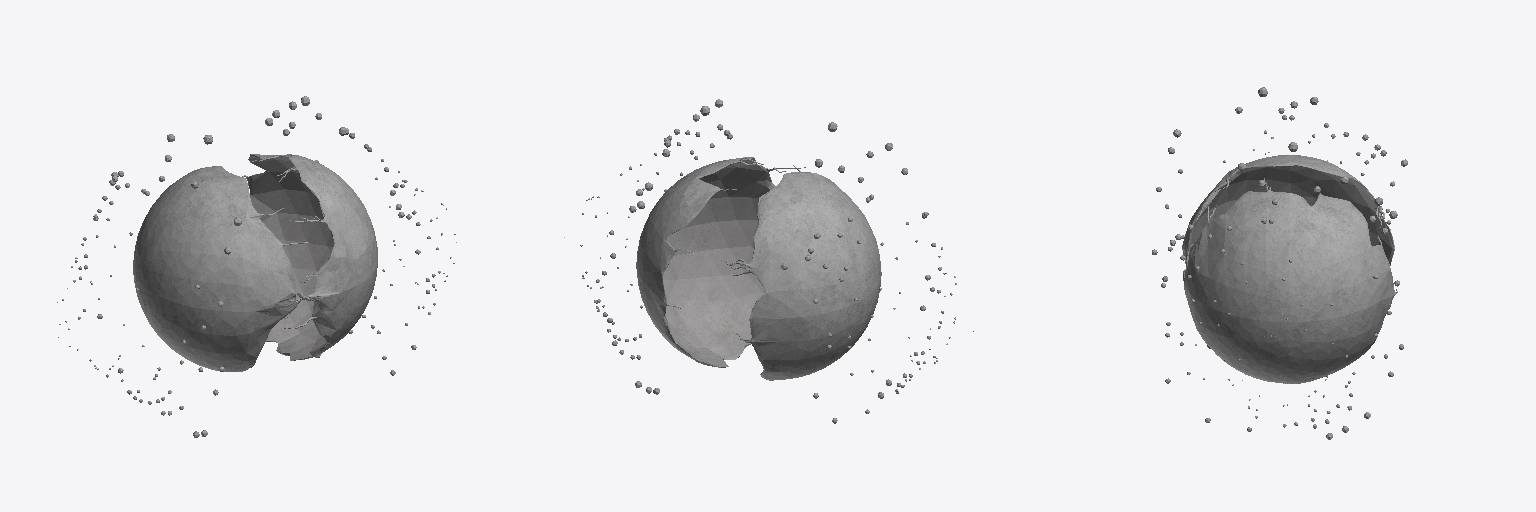
3 renders of one model, left to right at view 1: azimuth 30°, elevation 25°; view 2: azimuth 150°, elevation 25°; view 3: azimuth 270°, elevation 25°, orthographic.
Parts seen in each view (by area): view 1: Object039; view 2: Object039; view 3: Object039.
Boxes of the visible parts, x1,y1,x2,y2 form: Object039: [57, 96, 456, 437]; Object039: [564, 99, 973, 423]; Object039: [1152, 87, 1407, 439].
Bounding box in the file's own units: 506 × 338 × 278.
Materials: 1 (1 with a texture image).